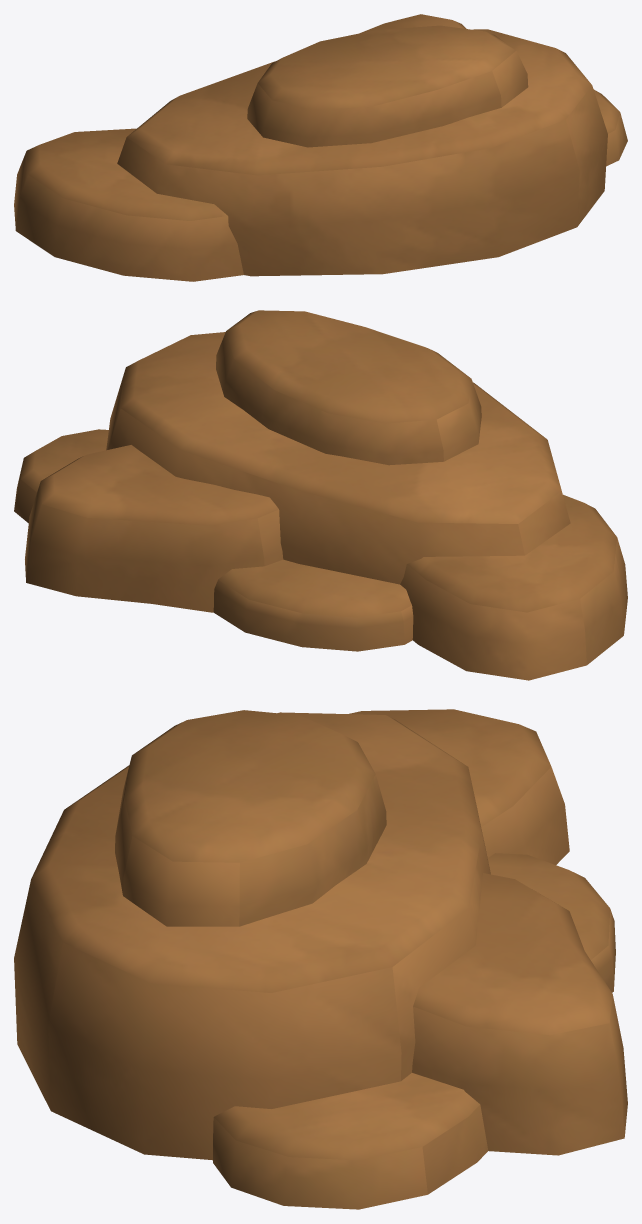
Rendered from Rock_06.glb.
3 renders of one model, top to bottom at view 1: azimuth 30°, elevation 25°; view 2: azimuth 150°, elevation 25°; view 3: azimuth 270°, elevation 25°, orthographic. The views are drawn at different scales.
Visible parts, largest first — view 1: Rock_06; view 2: Rock_06; view 3: Rock_06.
Part boxes in pixels (x1,y1,x2,y2): Rock_06: (14,14,627,281); Rock_06: (14,310,627,680); Rock_06: (14,709,627,1209).
Bounding box in the file's own units: 422 × 117 × 263.
Materials: 1 (1 with a texture image).
